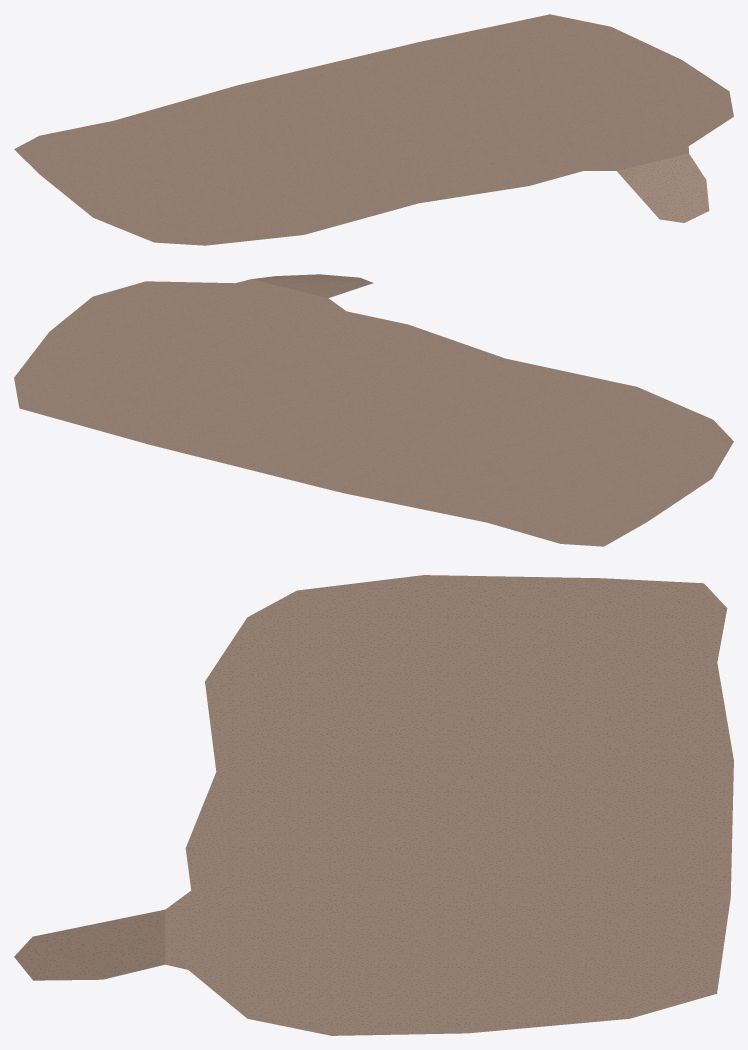
Rendered from kd_stage_135c43_4_147_bounded.glb.
The picture shows the model from 3 angles, top to bottom: view 1: azimuth 30°, elevation 25°; view 2: azimuth 150°, elevation 25°; view 3: azimuth 270°, elevation 25°; orthographic projection. The views are drawn at different scales.
Parts seen in each view (by area): view 1: kd_stage_135c43_4_147_bounded; view 2: kd_stage_135c43_4_147_bounded; view 3: kd_stage_135c43_4_147_bounded.
Boxes of the visible parts, left/top/right/bottom form: kd_stage_135c43_4_147_bounded: left=14, top=14, right=733, bottom=245; kd_stage_135c43_4_147_bounded: left=14, top=274, right=733, bottom=546; kd_stage_135c43_4_147_bounded: left=14, top=575, right=733, bottom=1035.
Size of the model in its own units: 2.39 by 0.0795 by 1.58.
1 material, 1 textured.
